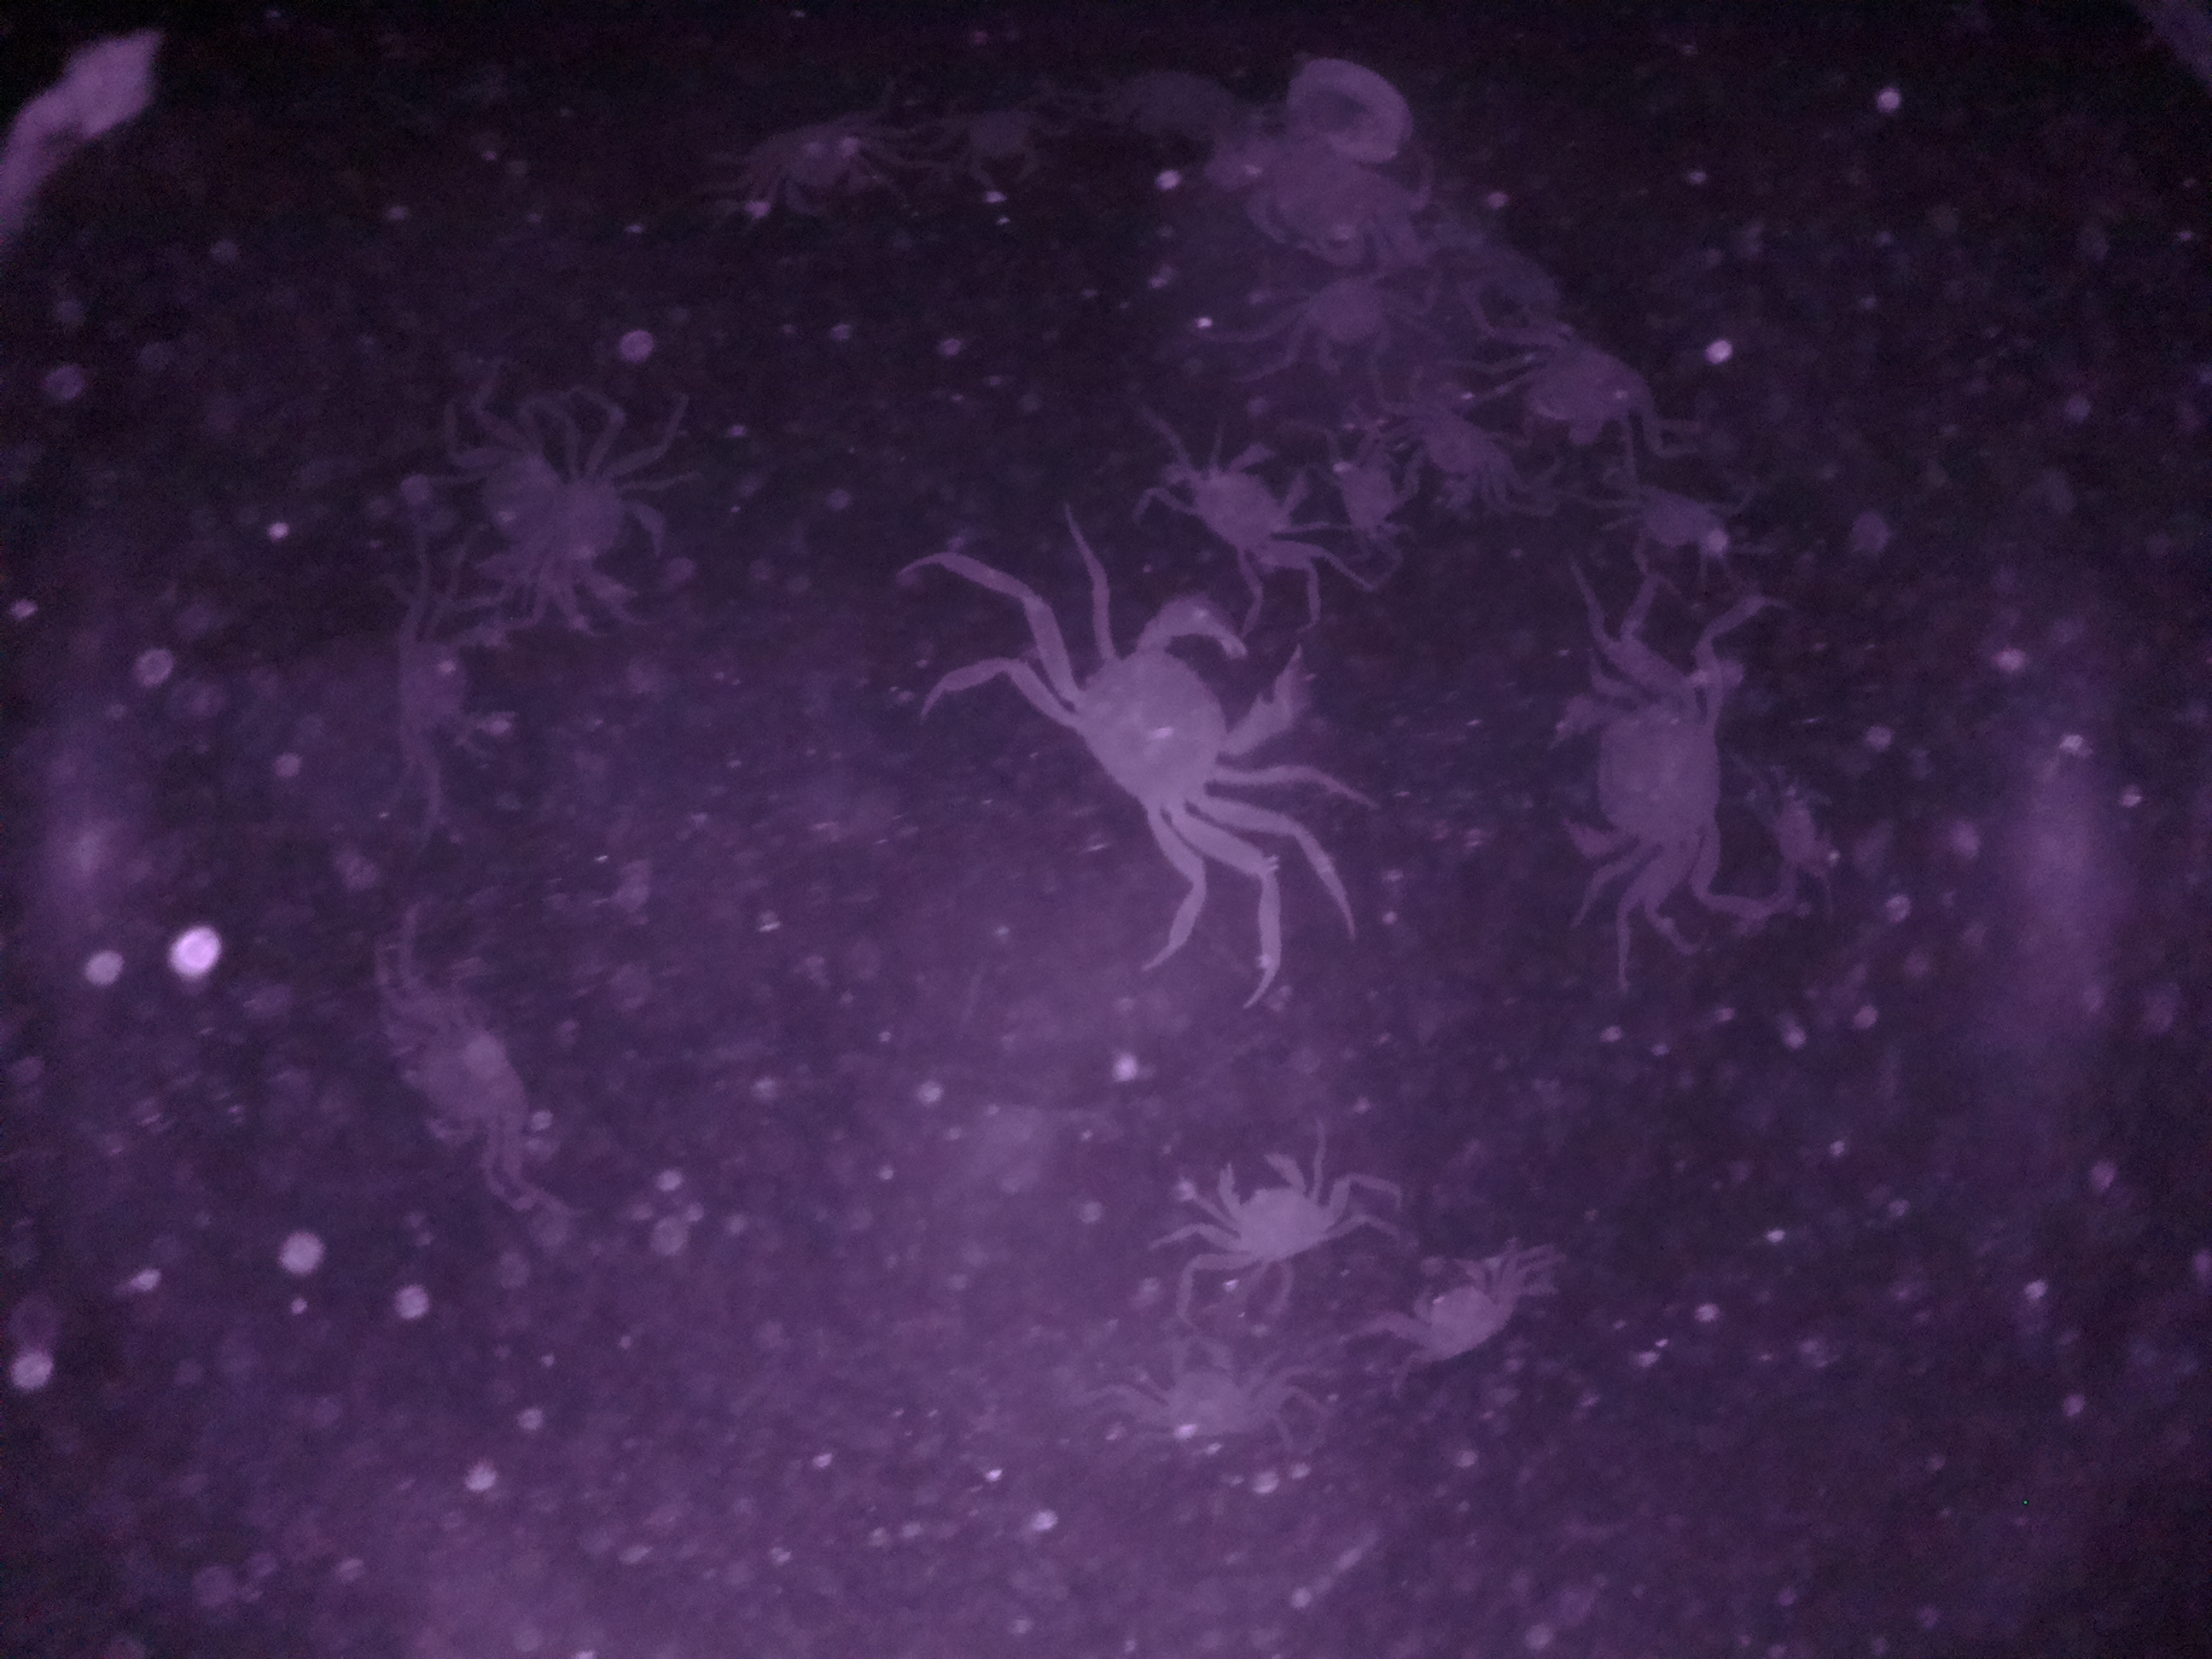Crab: (1008, 599, 1334, 866), (1550, 641, 1747, 931), (362, 946, 554, 1208), (1139, 425, 1327, 605), (709, 85, 925, 227), (519, 450, 688, 622), (1366, 1241, 1547, 1394), (1487, 328, 1688, 465), (385, 580, 528, 765), (1111, 1326, 1285, 1469), (1181, 1138, 1346, 1284), (1258, 253, 1439, 380)
